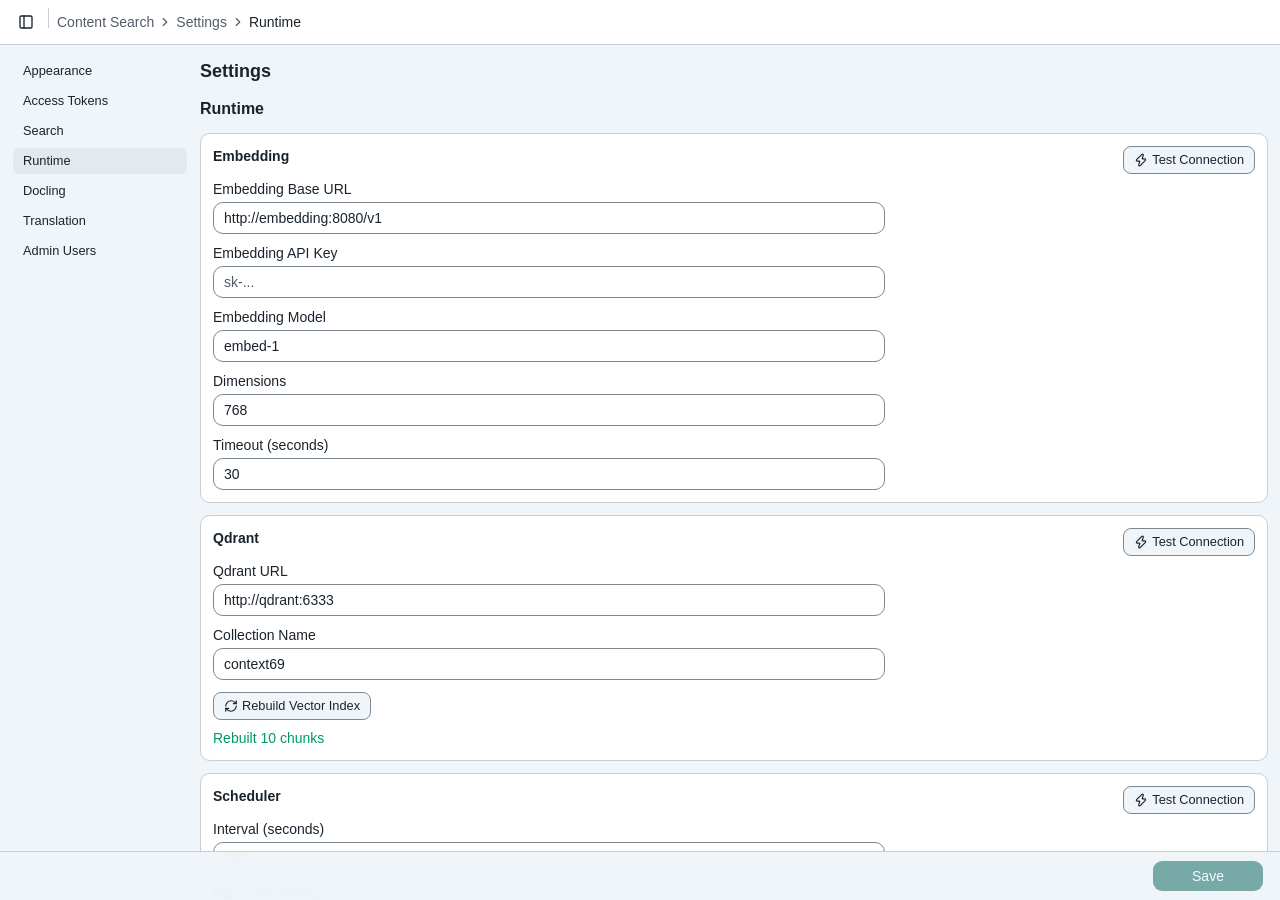
Test case: settings save orchestration › drops the pending state when a group is edited back to its baseline
Step 1. Type "-2" into the field labelled "Embedding Model" → (549, 346), box top-left (213, 330), bottom-right (885, 362)
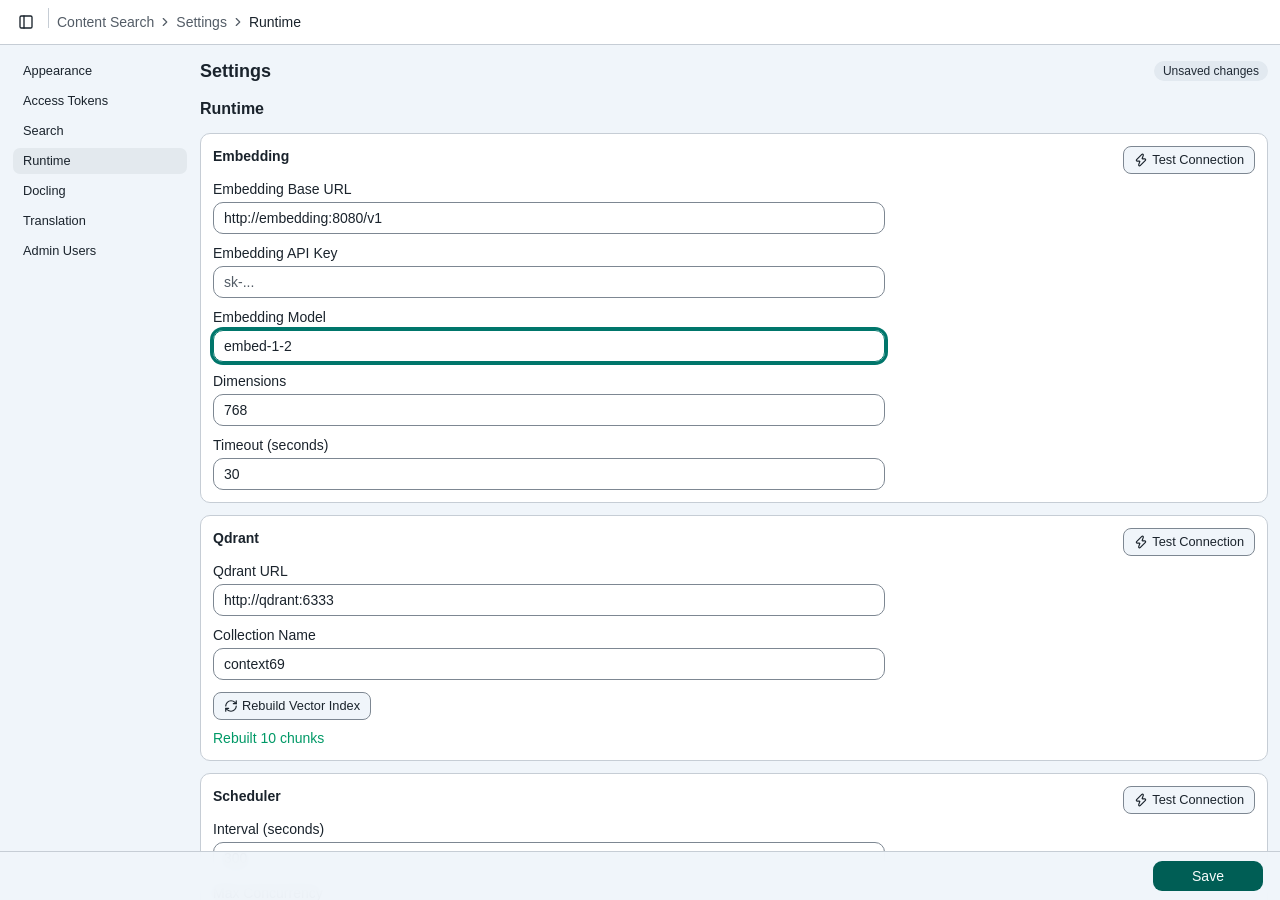
Expected: the text "Unsaved changes" is shown, top-left (1154, 61), bottom-right (1268, 81)
Step 2. Replace the text in the field labelled "Embedding Model" with "embed-1" → (549, 346), box top-left (213, 330), bottom-right (885, 362)
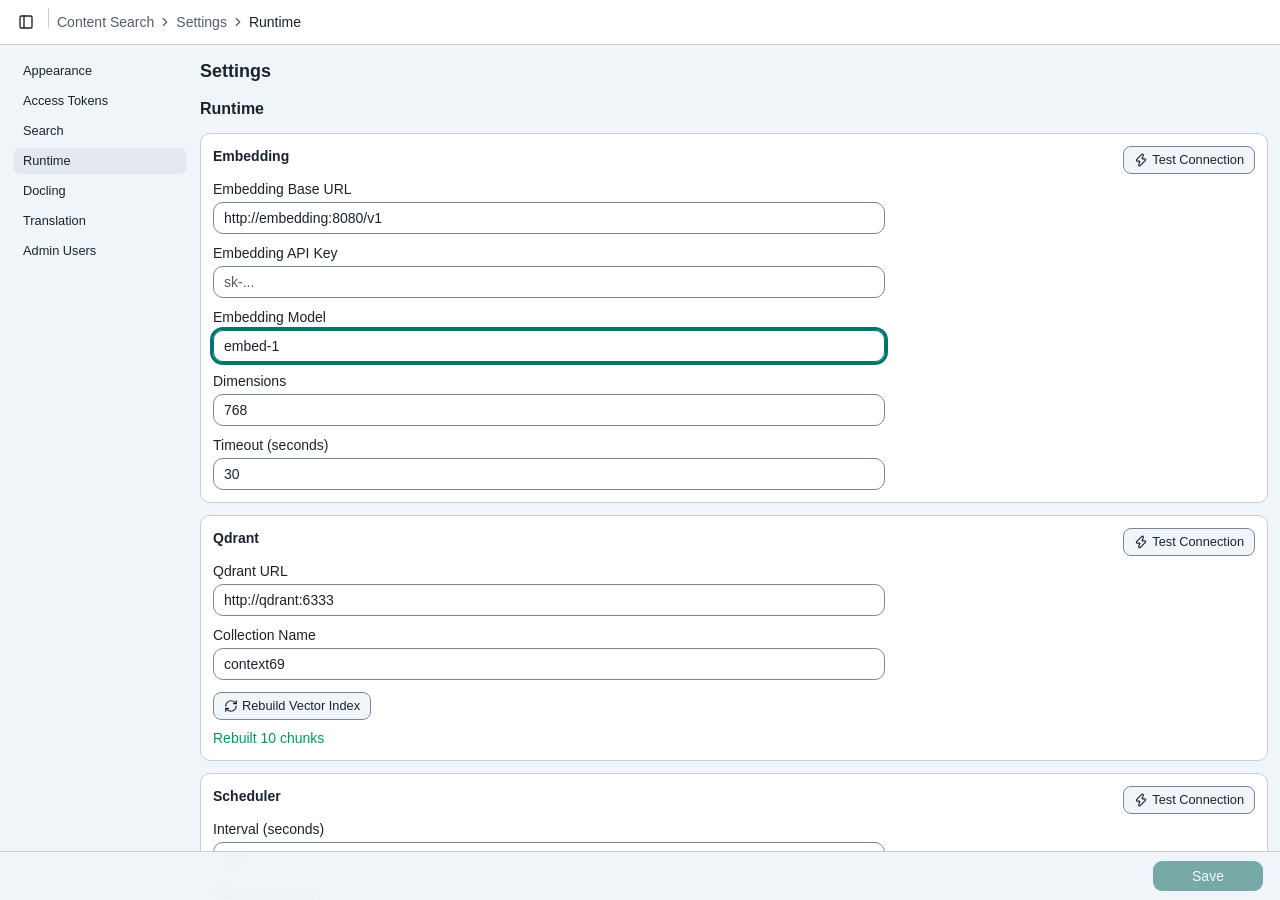
Expected: the text "Unsaved changes" is gone
Expected: the button with test id "settings-save" is disabled, top-left (1152, 860), bottom-right (1264, 892)
